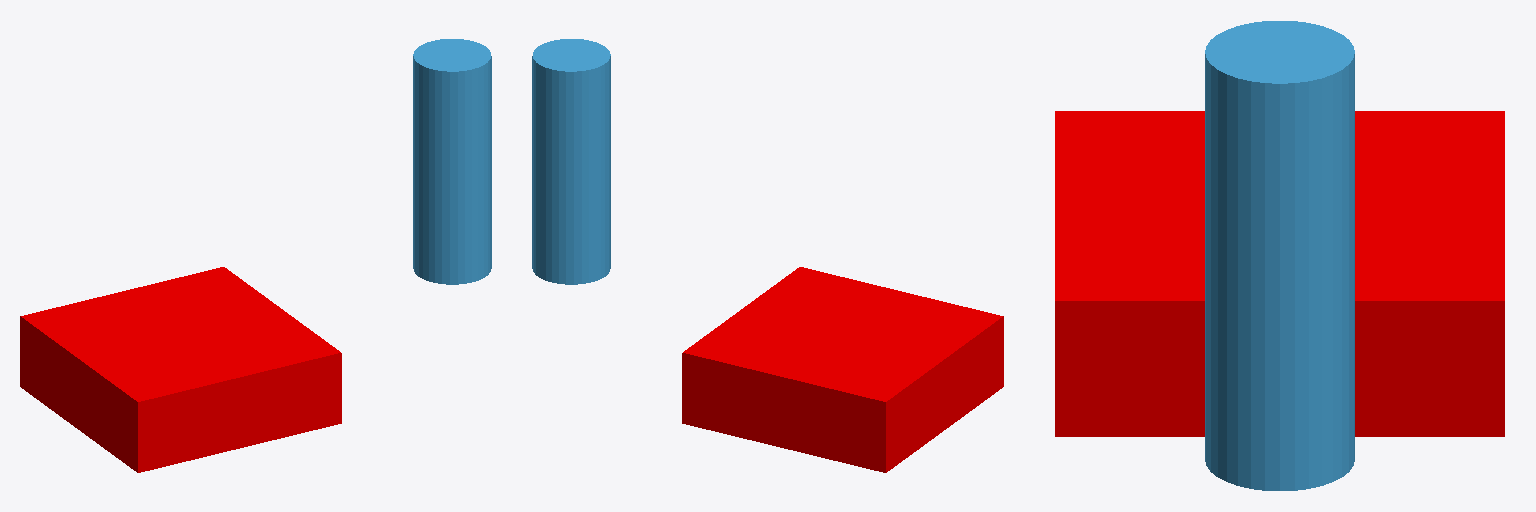
URDF robot description (browser_robot):
<?xml version="1.0"?>
<!-- SPDX-License-Identifier: MPL-2.0 -->
<robot name="browser_robot">
  <material name="fixture_red">
    <color rgba="1 0 0 1"/>
  </material>

  <link name="map">
    <visual>
      <geometry>
        <box size="1.5 1.5 0.5"/>
      </geometry>
      <material name="fixture_red"/>
    </visual>
    <collision>
      <geometry>
        <box size="1.7 1.7 0.6"/>
      </geometry>
    </collision>
  </link>

  <link name="arm">
    <visual>
      <origin xyz="0 0 0.75" rpy="0 0 0"/>
      <geometry>
        <cylinder radius="0.25" length="1.5"/>
      </geometry>
    </visual>
    <collision>
      <origin xyz="0 0 0.75" rpy="0 0 0"/>
      <geometry>
        <cylinder radius="0.3" length="1.6"/>
      </geometry>
    </collision>
  </link>

  <joint name="map_to_arm" type="fixed">
    <parent link="map"/>
    <child link="arm"/>
    <origin xyz="2 0 0.25" rpy="0 0 0"/>
  </joint>

  <link name="missing_mesh">
    <visual>
      <geometry>
        <mesh filename="meshes/not_granted_by_browser.glb" scale="0.5 0.5 0.5"/>
      </geometry>
    </visual>
  </link>

  <joint name="map_to_missing_mesh" type="fixed">
    <parent link="map"/>
    <child link="missing_mesh"/>
    <origin xyz="-2 0 0.5" rpy="0 0 0"/>
  </joint>
</robot>

--- What the picture shows (computed from the rendered views, not written in the file) ---
Views: 3 orthographic renders of the robot side by side, from view 1: azimuth 30°, elevation 25°; view 2: azimuth 150°, elevation 25°; view 3: azimuth 270°, elevation 25°.
Model browser_robot with 3 links and 2 joints (2 fixed), rooted at map, posed all joints at 0.
Links seen in each view (by area): view 1: map, arm; view 2: map, arm; view 3: map, arm.
Link boxes in pixels (x1,y1,x2,y2): map: (20,267,341,472); arm: (413,39,491,284); map: (682,267,1003,472); arm: (532,39,610,284); map: (1055,111,1504,436); arm: (1205,21,1354,490).
Size in the robot's own frame: 3 by 1.5 by 2 metres.
Meshes: 1 distinct files referenced, 0 mesh visuals loaded (none loaded); not drawn: 1 (reference not matched to a file when rendering).
